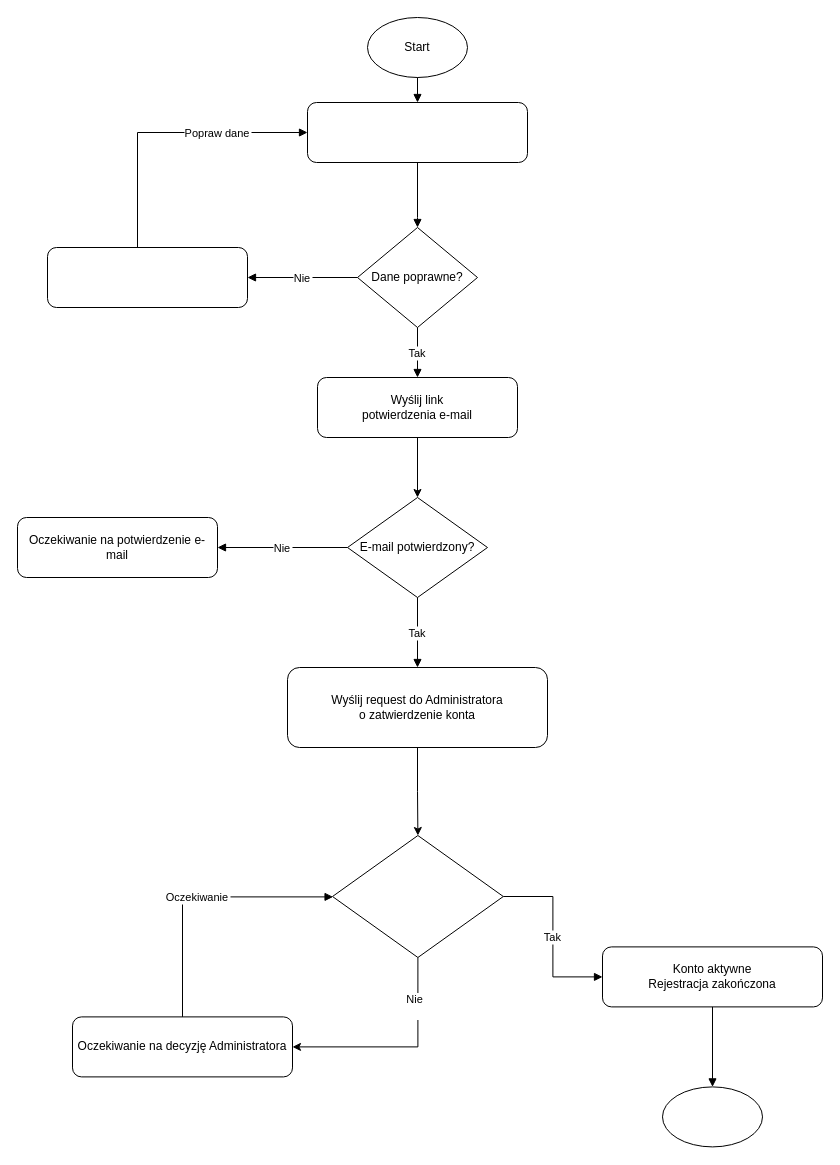
This 840x1165 diagram has some shape labels left out. Each missing label, with the centre of its shape:
"Administrator zatwierdził?" belongs at [417,896].
"Dane niepoprawne — pokaż komunikat" belongs at [147,277].
"Koniec" belongs at [712,1116].
"Wprowadź dane rejestracyjne" belongs at [417,132].
